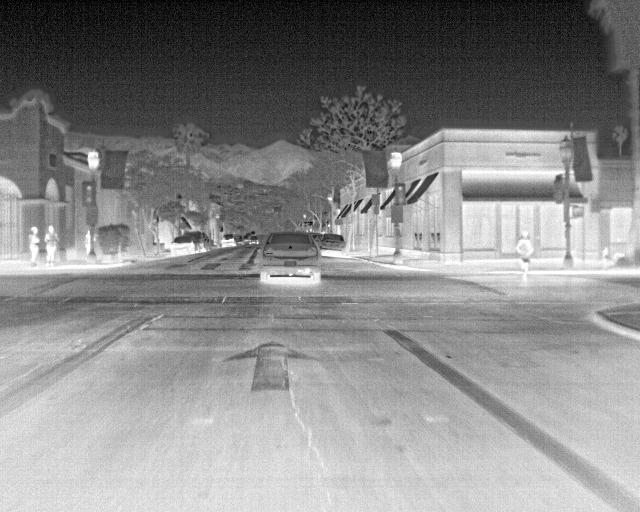bicycle: (256, 227, 321, 280), (317, 234, 344, 256), (168, 236, 199, 255), (184, 228, 210, 249), (219, 234, 237, 250), (248, 235, 263, 247)
empty: (514, 228, 534, 283), (25, 225, 43, 267), (42, 224, 59, 267), (81, 227, 93, 256)
